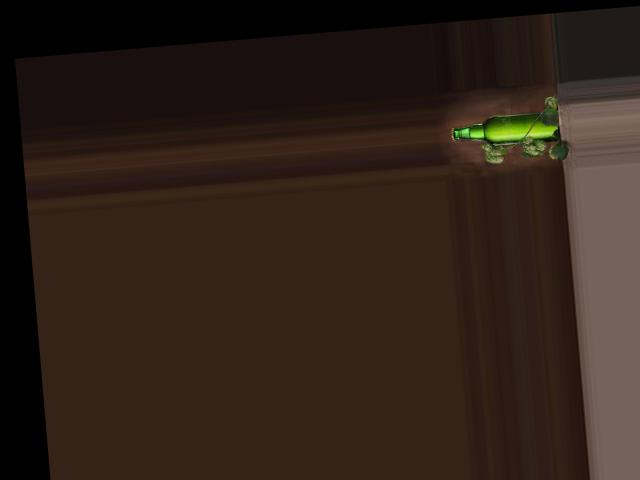beer: (449, 109, 562, 148)
